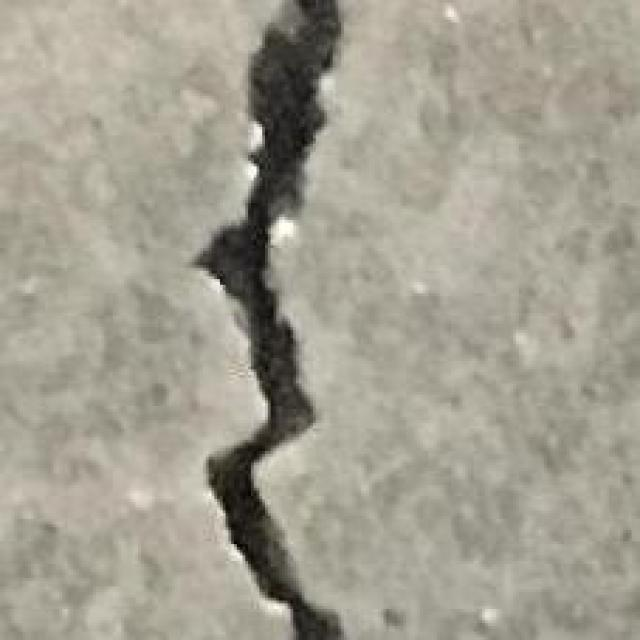vertical cracks: (195, 0, 343, 639)
